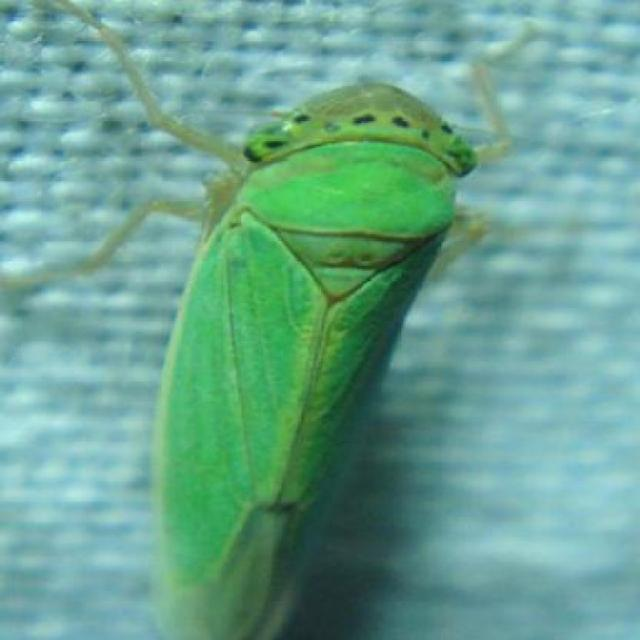green-leafhopper: (98, 77, 497, 640)
